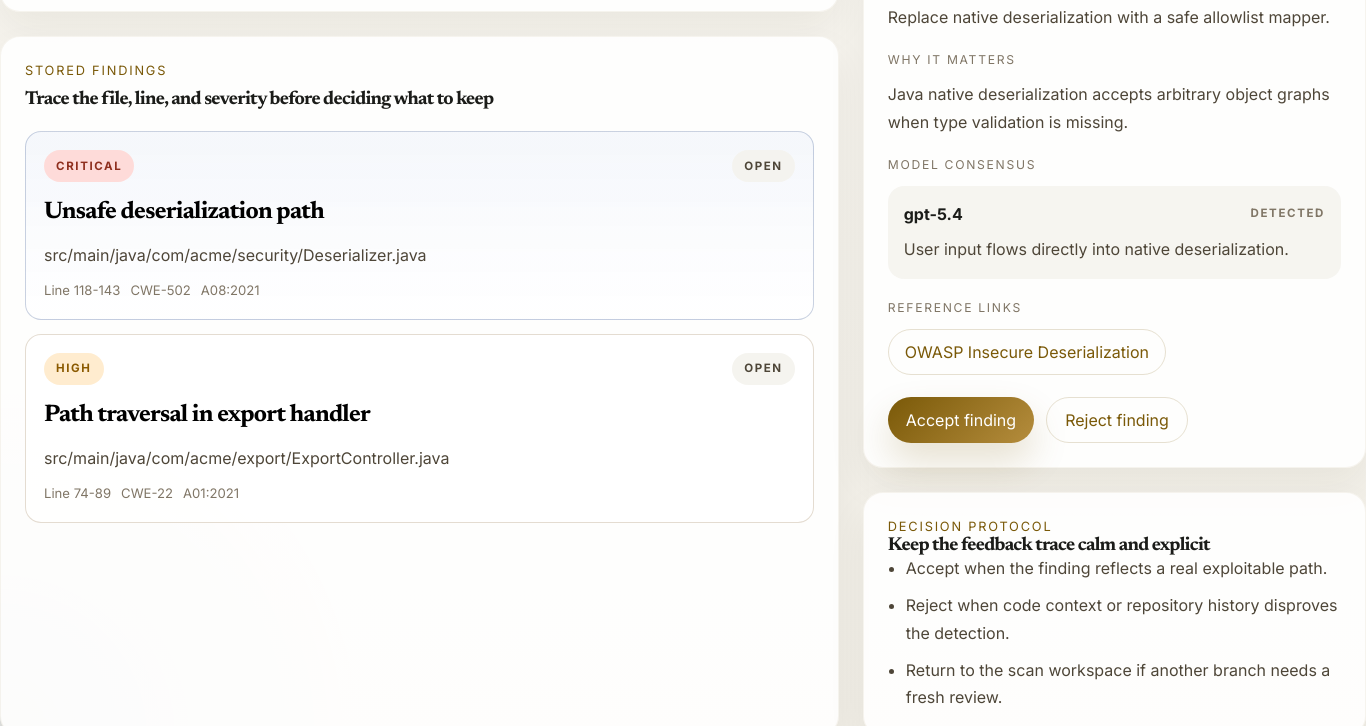
VulnerabilityReviewPage › renders a vulnerability review workspace with list, detail, and feedback flow
(page scrolled)
Expected: the button "Unsafe deserialization path" is shown, top-left (25, 131), bottom-right (814, 320)
Expected: the text "Replace native deserialization with a safe allowlist mapper." is shown, top-left (888, 4), bottom-right (1341, 31)
Click the button "Path traversal in export handler": (74, 369) top-left (25, 334), bottom-right (814, 523)
(page scrolled)
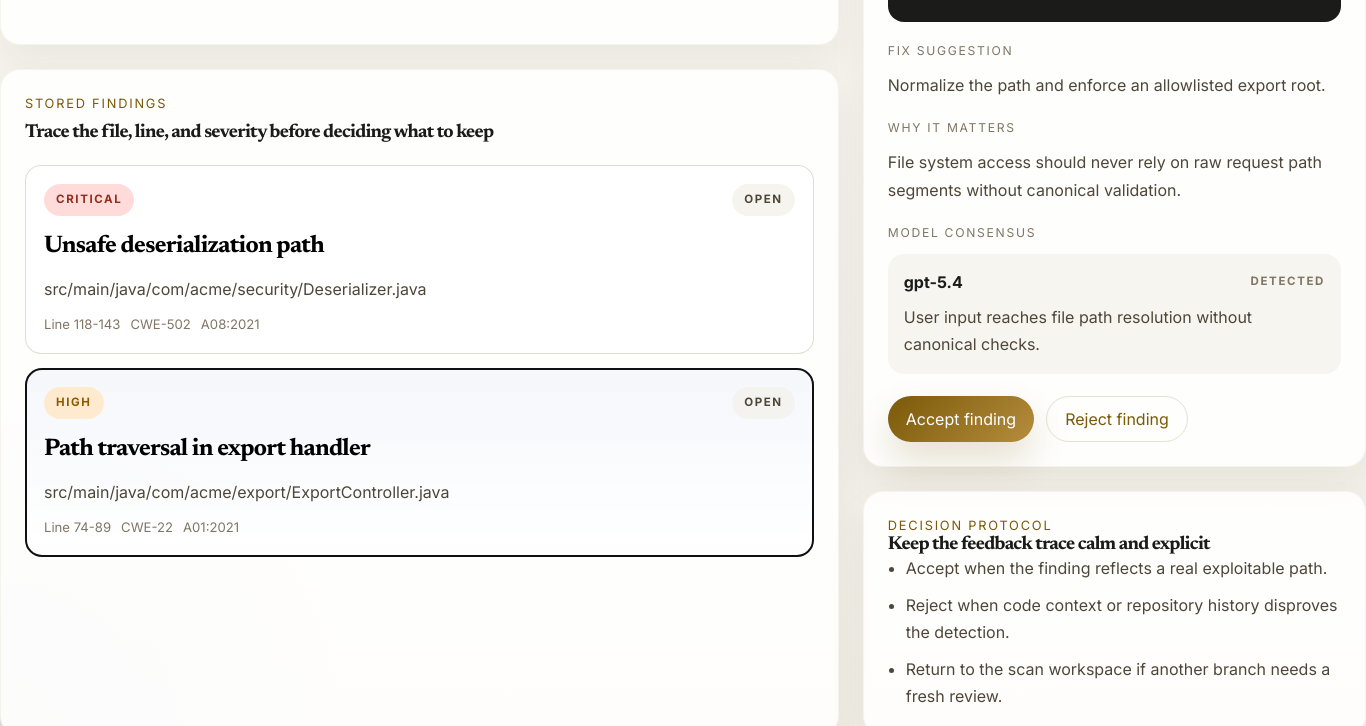
Expected: the text "Normalize the path and enforce an allowlisted export root." is shown, top-left (888, 72), bottom-right (1341, 99)
Click the button "Accept finding": (961, 419) top-left (888, 396), bottom-right (1034, 442)
(page scrolled)
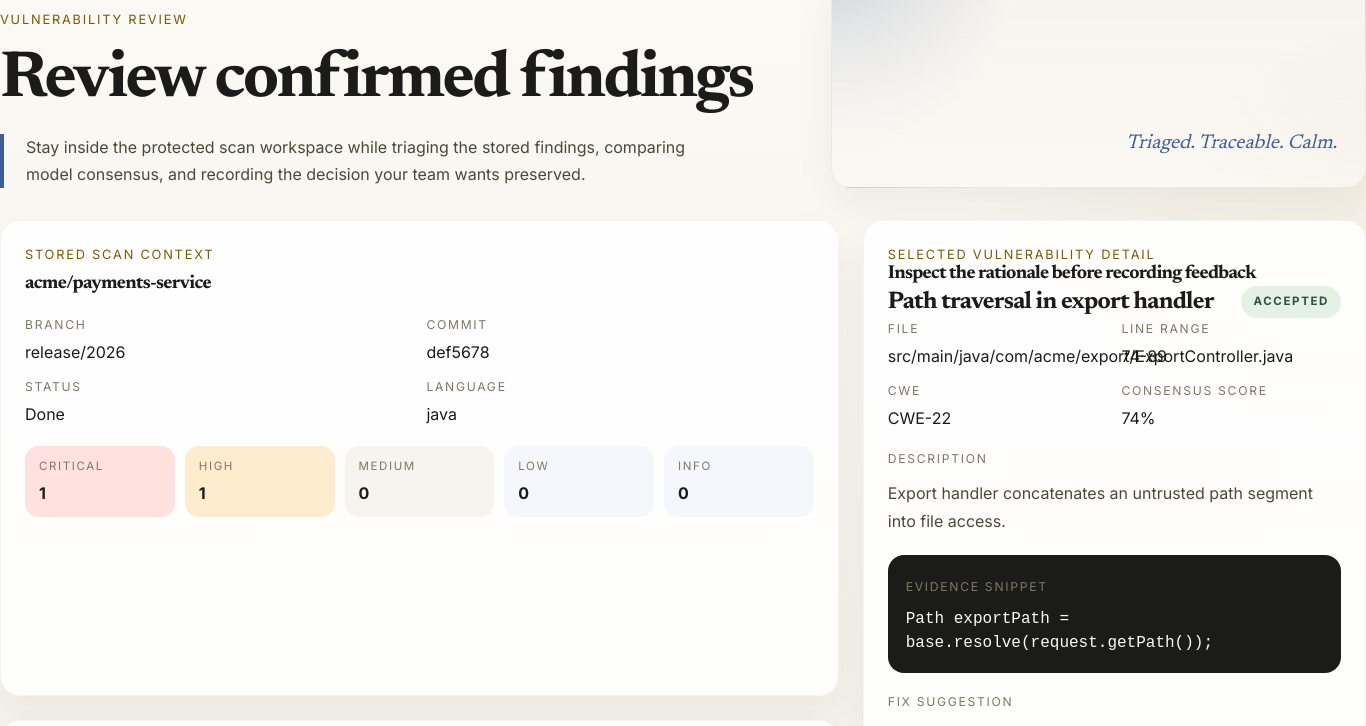
Expected: the text "Accepted" is shown, top-left (1242, 286), bottom-right (1341, 318)
